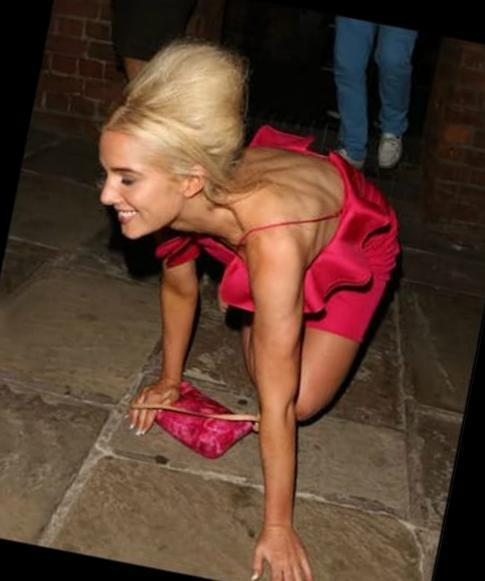Drunk: (92, 137, 180, 237)
